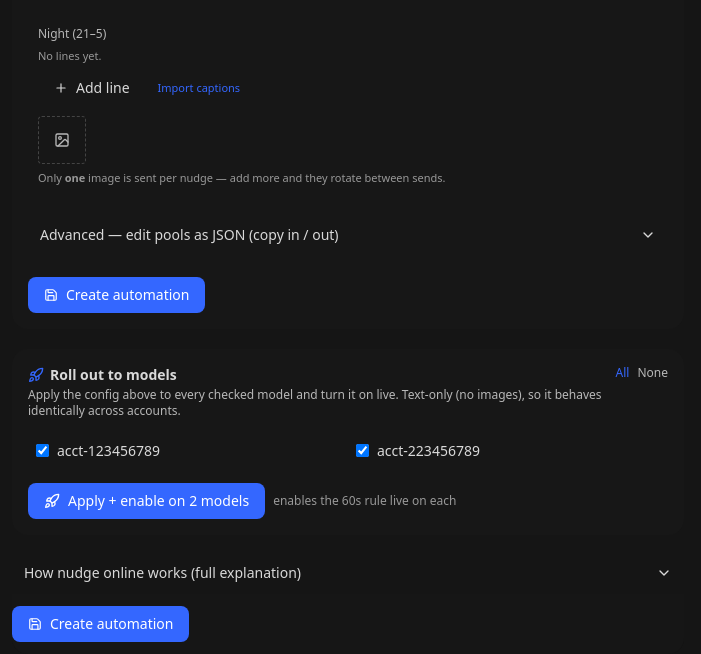
Test: NudgeOnlineTab over its own save › A's 'Saved' does not stand under B when B's config fails to load
(page scrolled)
Click the 1st button "Create automation": x=117, y=295 left=28, top=277, right=206, bottom=313
(page scrolled)
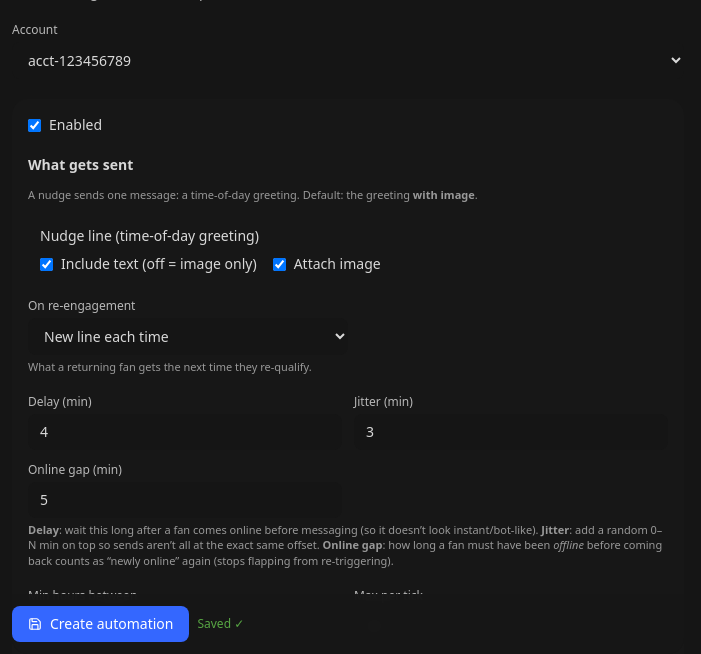
Select "acct-223456789" in the dropdown labelled "Account": x=348, y=60 left=12, top=42, right=684, bottom=79
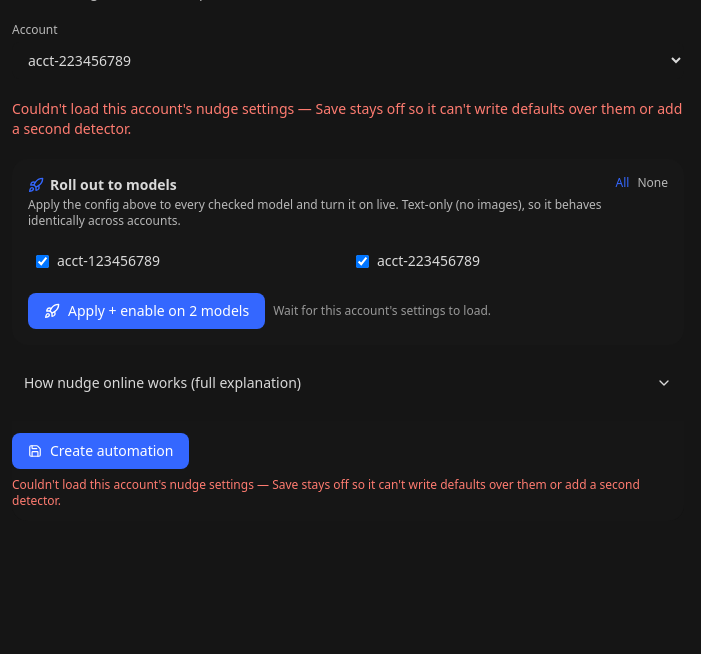
Now the text "Couldn't load this account's nudge settings" is shown 2 times, box left=12, top=99, right=684, bottom=139; left=12, top=477, right=684, bottom=509
Now the text "Saved ✓" is gone
